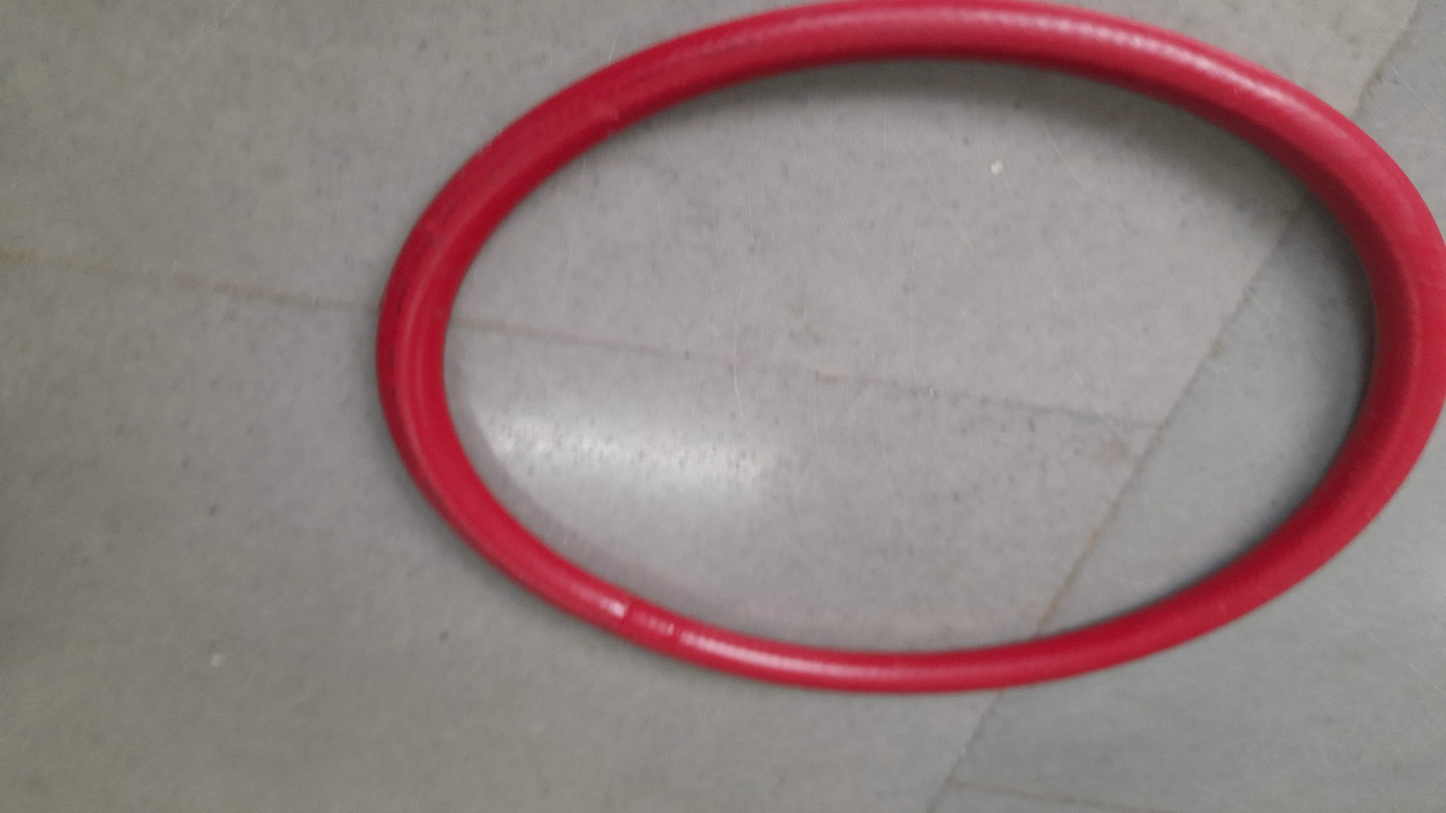Red ring: (373, 5, 1446, 696)
